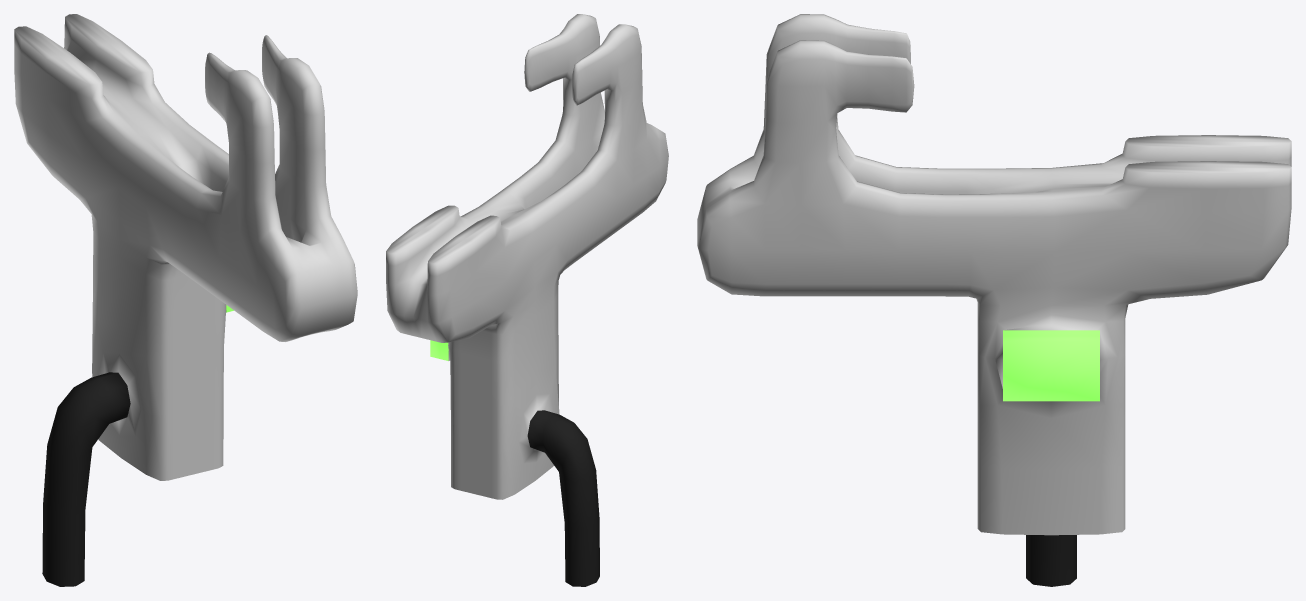
File: Cargador.fbx
3 views of the same model, side by side, from view 1: azimuth 30°, elevation 25°; view 2: azimuth 150°, elevation 25°; view 3: azimuth 270°, elevation 25° (orthographic). The views are drawn at different scales.
Visible parts, largest first — view 1: Cube.001; view 2: Cube.001; view 3: Cube.001.
Part boxes in pixels (x1,y1,x2,y2): Cube.001: (14, 14, 357, 586); Cube.001: (386, 14, 668, 586); Cube.001: (697, 14, 1291, 586).
Size of the model in its own units: 35.19 by 107 by 96.37.
